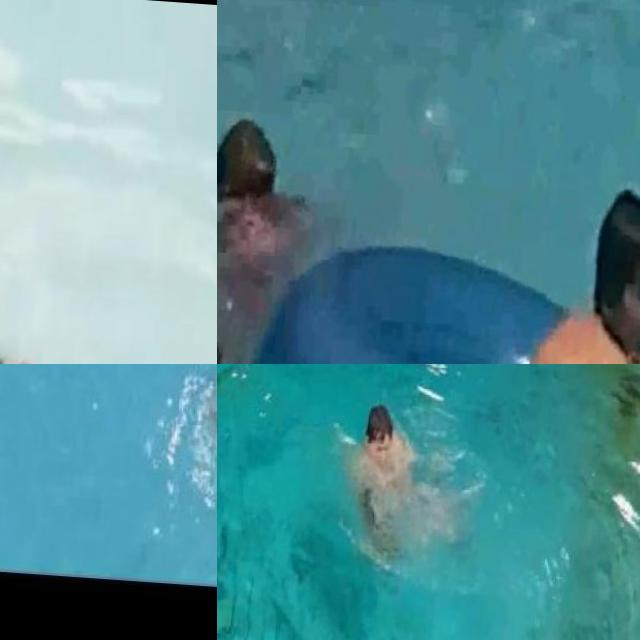drowning: (0, 141, 216, 364), (217, 77, 398, 332)
swimming: (530, 188, 640, 364), (335, 394, 434, 540), (186, 385, 217, 524)
